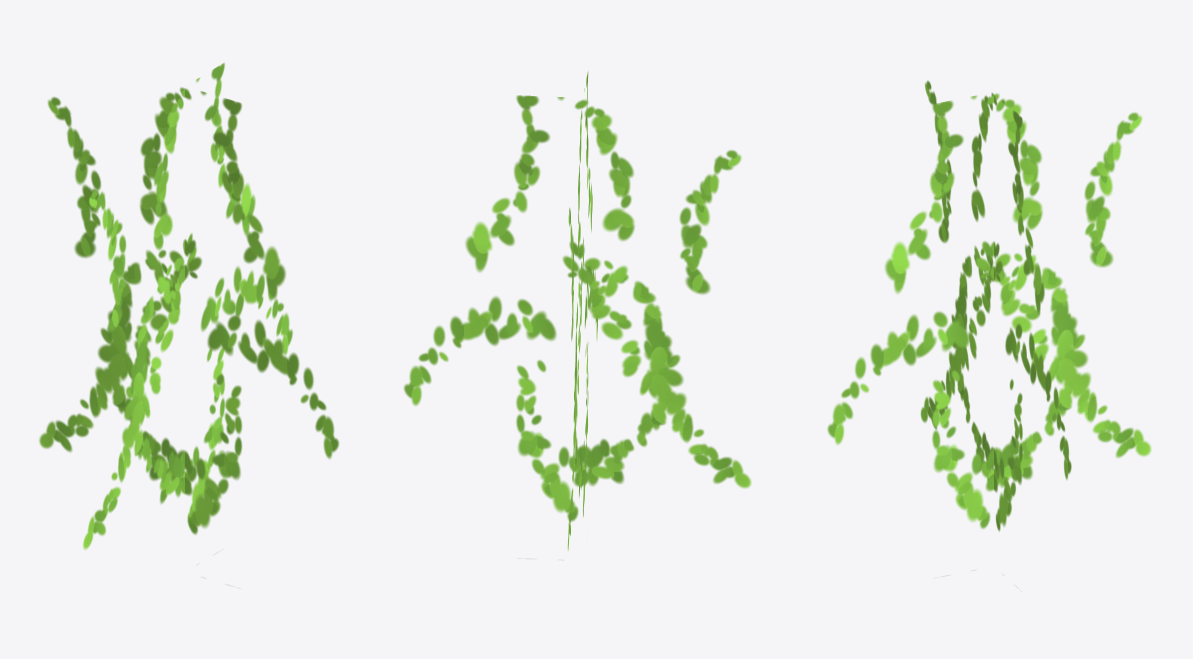
File: Foliage_Soft.glb
3 renders of one model, left to right at view 1: azimuth 30°, elevation 25°; view 2: azimuth 150°, elevation 25°; view 3: azimuth 270°, elevation 25°, orthographic. The views are drawn at different scales.
Visible parts, largest first — view 1: Foliage_Soft; view 2: Foliage_Soft; view 3: Foliage_Soft.
Part boxes in pixels (box(x1,y1,x2,y2)): Foliage_Soft: box(39, 63, 338, 585); Foliage_Soft: box(404, 71, 751, 550); Foliage_Soft: box(827, 80, 1151, 576).
Bounding box in the file's own units: 2.54 × 3.6 × 2.54.
2 materials, 2 textured.
